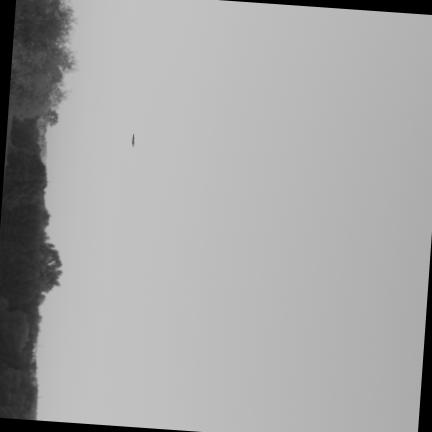Shahed: (131, 134, 133, 146)
